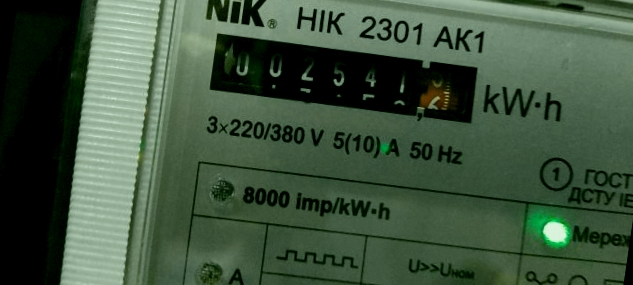0: (263, 45, 287, 80), (232, 46, 253, 77)
1: (390, 60, 411, 95)
2: (294, 48, 320, 85)
4: (360, 57, 381, 90)
5: (327, 55, 348, 89)
6: (423, 89, 442, 112)
screen: (191, 12, 501, 144)
